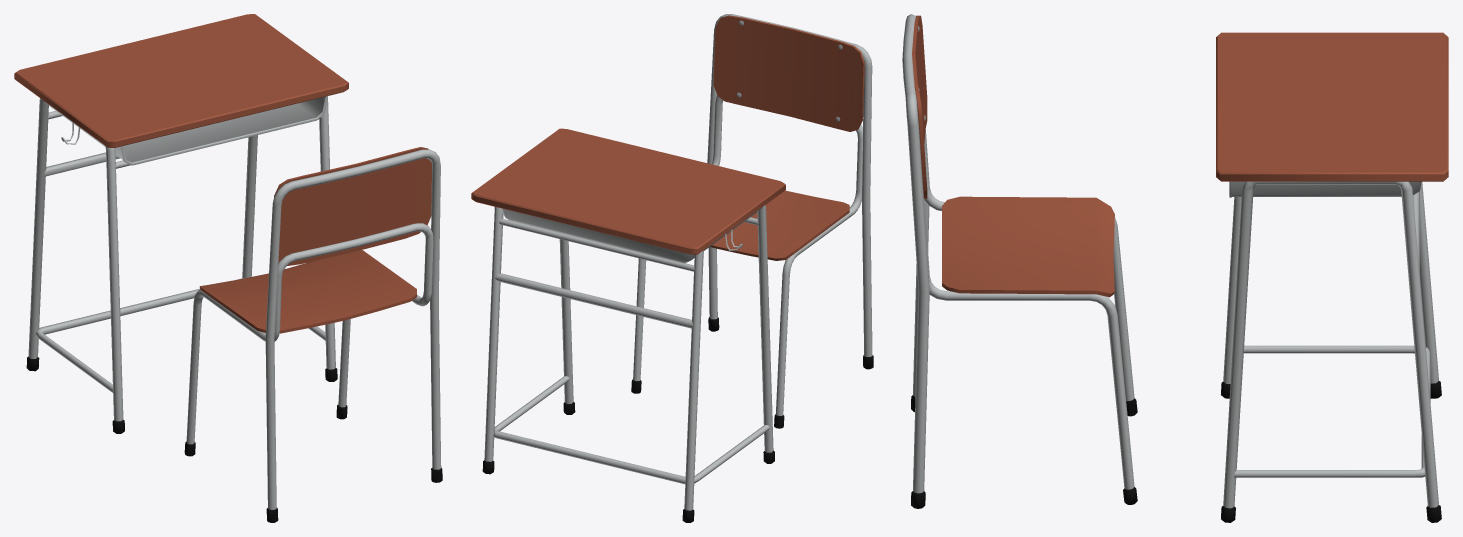
3 views of the same model, side by side, from view 1: azimuth 30°, elevation 25°; view 2: azimuth 150°, elevation 25°; view 3: azimuth 270°, elevation 25° (orthographic). The views are drawn at different scales.
Visible parts, largest first — view 1: desk_0, chair_1; view 2: desk_0, chair_1; view 3: desk_0, chair_1.
Boxes of the visible parts, left/top/right/bottom form: desk_0: left=14, top=14, right=348, bottom=433; chair_1: left=184, top=147, right=442, bottom=522; desk_0: left=471, top=128, right=785, bottom=522; chair_1: left=631, top=14, right=873, bottom=428; desk_0: left=1216, top=32, right=1448, bottom=522; chair_1: left=902, top=14, right=1137, bottom=508.
Bounding box in the file's own units: 0.6447 × 0.8642 × 1.06.
Materials: 3 (2 with a texture image).
